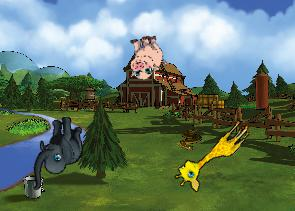elephant: (24, 114, 88, 190)
giraffe: (170, 110, 254, 196)
pig: (122, 32, 168, 81)
